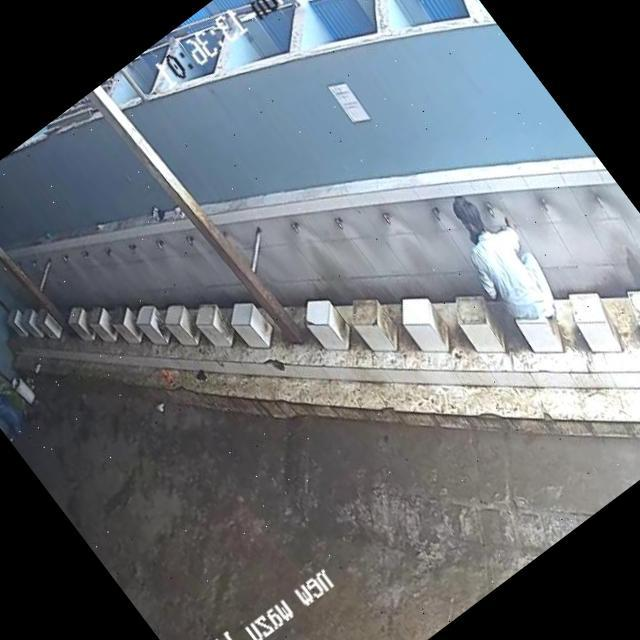person: (427, 175, 559, 324)
